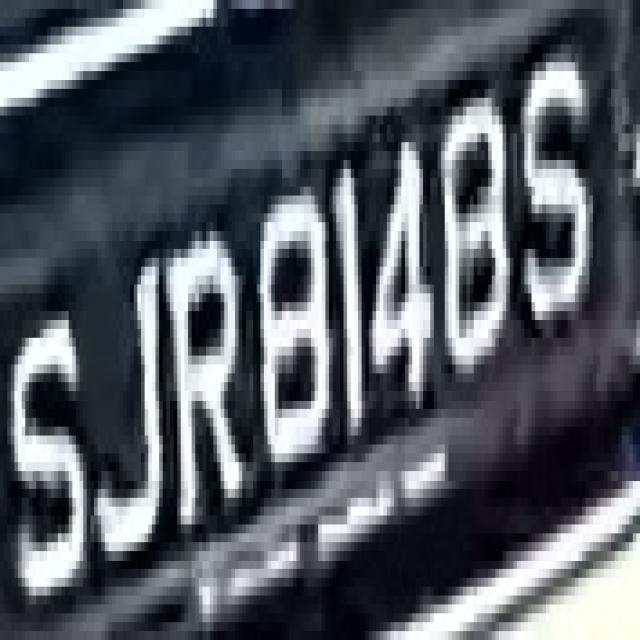1: (332, 133, 372, 489)
4: (365, 89, 434, 444)
8: (246, 160, 336, 489), (431, 89, 514, 382)
J: (80, 231, 166, 578)
R: (156, 231, 260, 551)
S: (513, 36, 604, 373), (4, 293, 90, 631)
